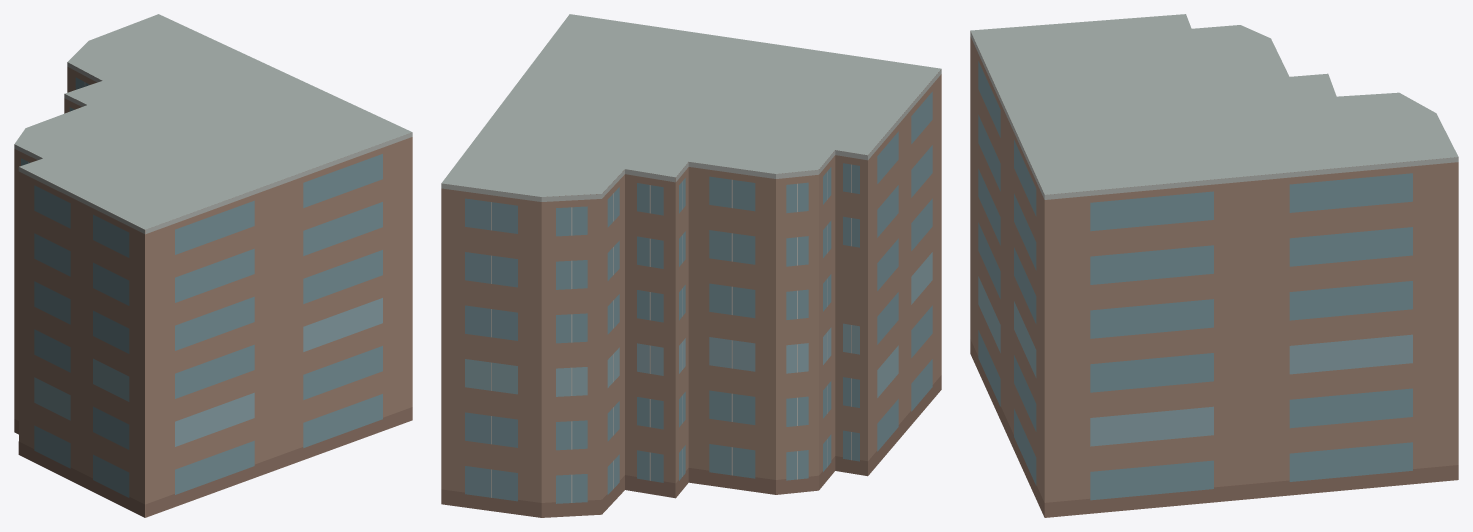
Rendered from survey-upis-33029301.glb.
3 renders of one model, left to right at view 1: azimuth 30°, elevation 25°; view 2: azimuth 150°, elevation 25°; view 3: azimuth 270°, elevation 25°, orthographic. The views are drawn at different scales.
Visible parts, largest first — view 1: survey-upis-33029301.tmp; view 2: survey-upis-33029301.tmp; view 3: survey-upis-33029301.tmp.
Part boxes in pixels (<box>): survey-upis-33029301.tmp: <box>14,14,412,517</box>; survey-upis-33029301.tmp: <box>441,14,941,517</box>; survey-upis-33029301.tmp: <box>970,14,1458,517</box>.
Bounding box in the file's own units: 18.64 × 15.5 × 21.26.
